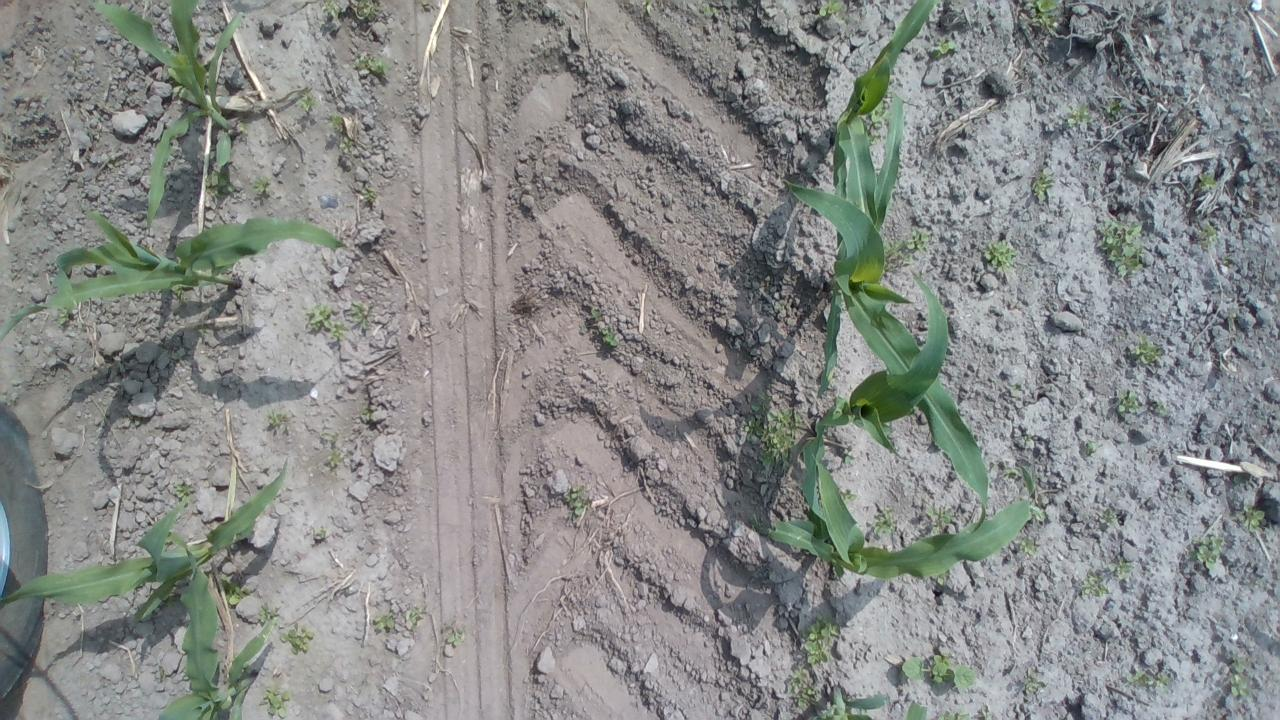Maize: (762, 86, 1004, 507), (0, 454, 306, 716), (755, 272, 999, 516), (1, 192, 346, 353), (90, 0, 261, 233), (745, 467, 1052, 588), (814, 0, 960, 232), (134, 528, 282, 720), (805, 673, 969, 720)
Weeds: (739, 389, 803, 474), (896, 652, 983, 695), (1092, 218, 1148, 280), (783, 664, 832, 714), (797, 614, 844, 666), (1082, 556, 1134, 601), (314, 0, 389, 29), (1117, 387, 1168, 428), (1120, 661, 1175, 696), (1221, 656, 1259, 706), (1182, 534, 1226, 576), (302, 298, 344, 340), (1123, 328, 1167, 368), (1023, 0, 1064, 41), (584, 306, 622, 350), (917, 502, 968, 534), (862, 501, 901, 541), (979, 238, 1018, 276), (345, 298, 382, 338), (319, 430, 352, 474), (278, 622, 316, 658), (214, 569, 248, 609), (199, 166, 242, 196), (925, 34, 970, 62), (1091, 503, 1128, 537), (329, 115, 356, 161), (1018, 668, 1059, 698), (902, 226, 937, 261), (1004, 529, 1042, 560), (862, 96, 889, 139), (1234, 502, 1266, 538), (262, 684, 293, 720), (399, 601, 432, 630), (353, 54, 388, 80), (442, 620, 472, 650), (263, 408, 295, 436), (248, 172, 279, 200), (1194, 221, 1222, 252), (354, 180, 382, 210), (564, 486, 590, 518), (1028, 172, 1057, 199), (816, 1, 852, 21), (1063, 106, 1093, 130), (830, 444, 859, 468), (369, 612, 398, 636), (172, 477, 196, 506), (1099, 96, 1122, 122), (255, 604, 282, 626), (297, 91, 324, 113), (697, 0, 722, 20), (1195, 168, 1216, 191), (977, 702, 996, 720), (1084, 440, 1102, 459), (1006, 379, 1024, 398), (638, 0, 656, 18), (1019, 433, 1035, 450)
